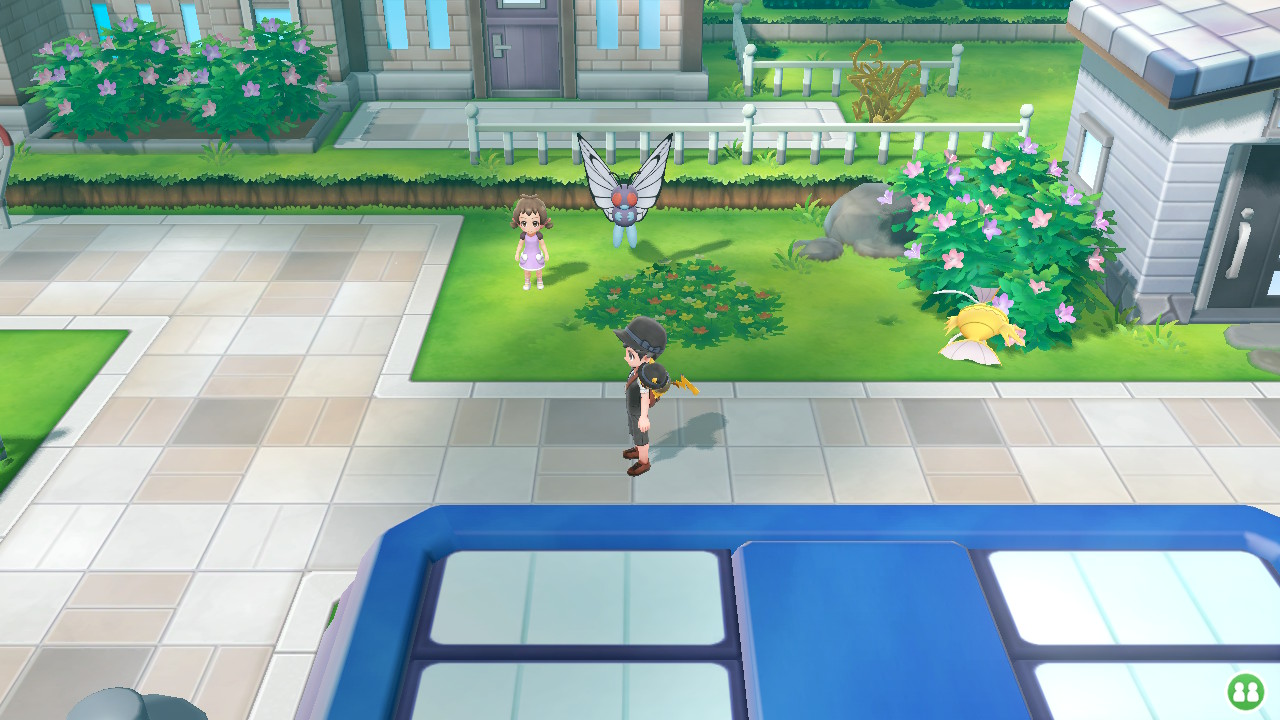Golden: (937, 287, 1026, 366)
